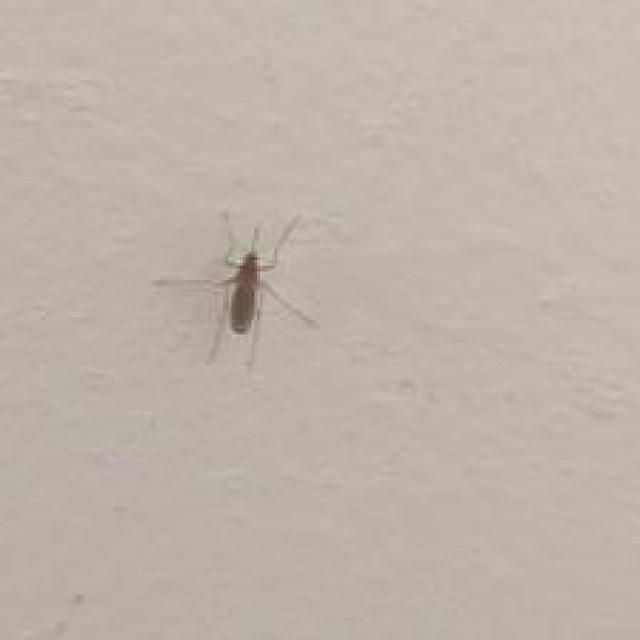Culex: (151, 209, 320, 374)
